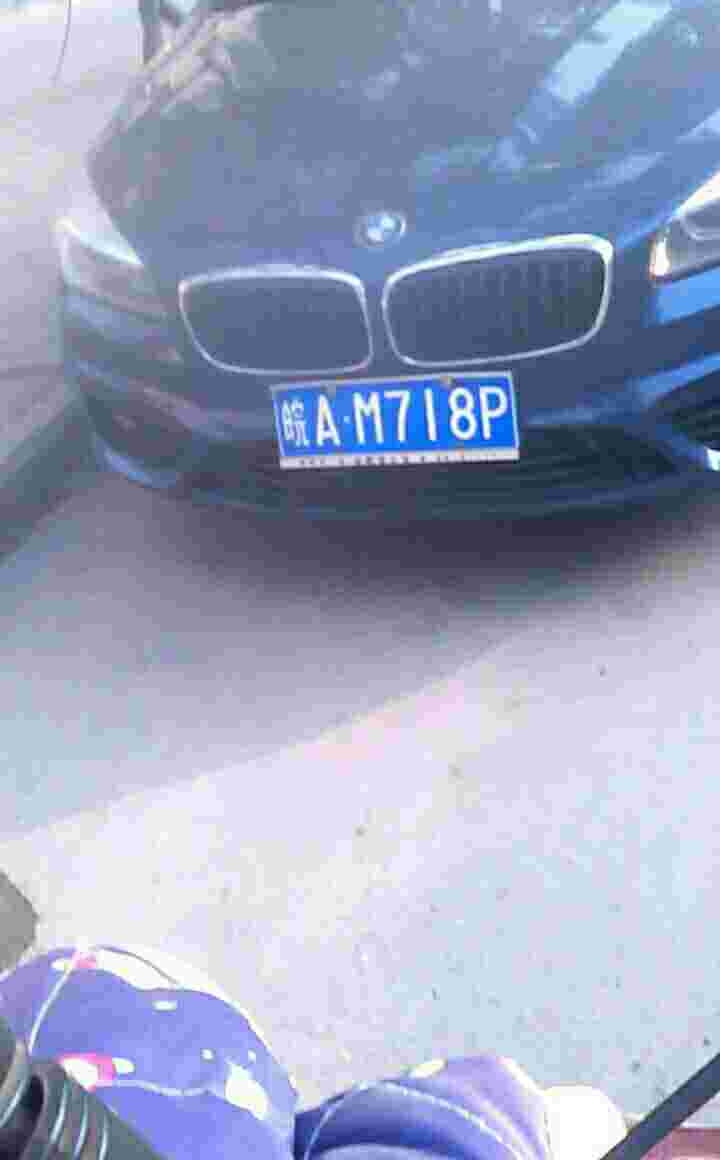plate: (272, 369, 524, 465)
